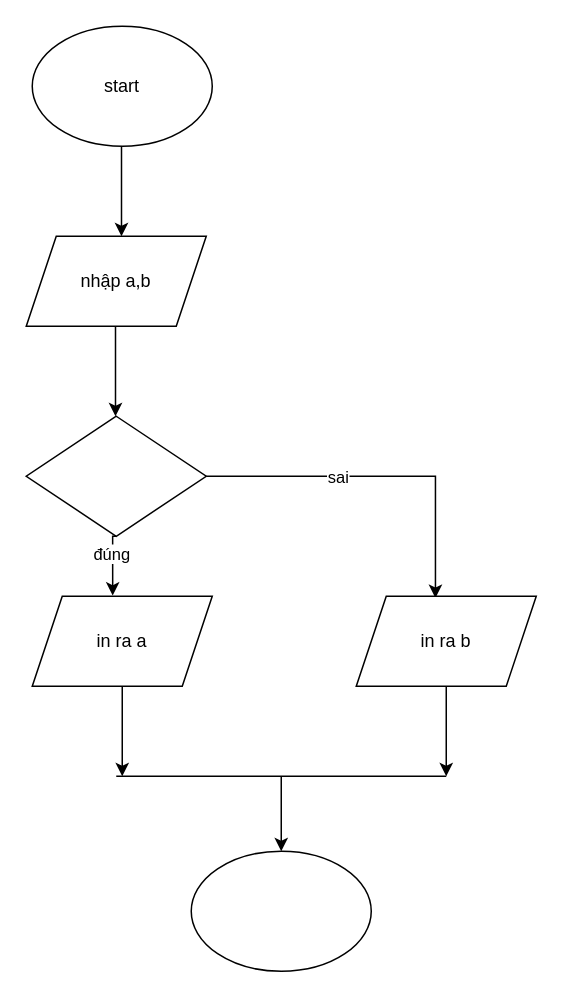
This 563x998 diagram has some shape labels left out. Each missing label, with the box of its shape:
a chia hết cho 2: (25, 415, 206, 536)
end: (190, 850, 371, 971)
